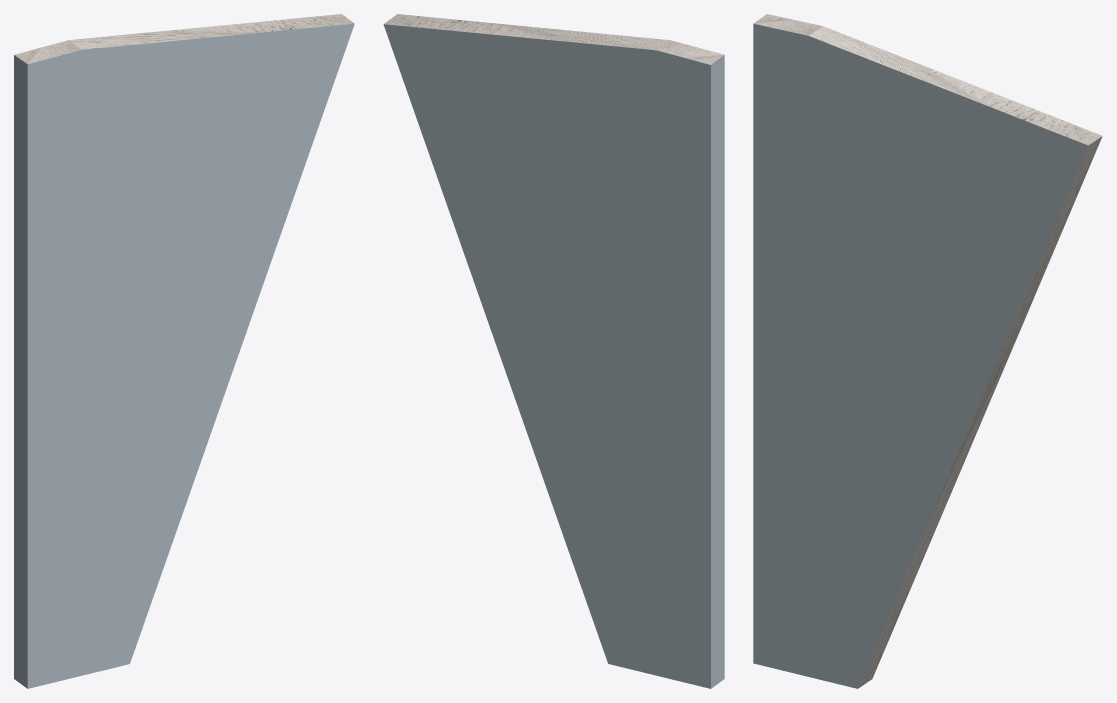
The model's file is glass4.glb.
3 views of the same model, side by side, from view 1: azimuth 30°, elevation 25°; view 2: azimuth 150°, elevation 25°; view 3: azimuth 330°, elevation 25° (orthographic). The views are drawn at different scales.
Visible parts, largest first — view 1: broken_window_cell.004; view 2: broken_window_cell.004; view 3: broken_window_cell.004.
Boxes of the visible parts, left/top/right/bottom form: broken_window_cell.004: left=14, top=14, right=354, bottom=688; broken_window_cell.004: left=383, top=14, right=724, bottom=688; broken_window_cell.004: left=753, top=14, right=1102, bottom=688.
Size of the model in its own units: 0.6559 by 1.2 by 0.0471.
2 materials, 1 textured.
